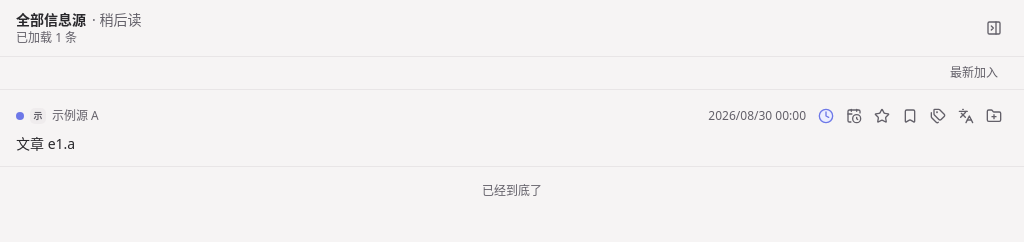
Test: 稍后读 toggle（mutation：乐观 + 失败回滚 + 诚实错误） › 失败：乐观移除回滚（行保留）+ 错误诚实透出
Check: the button "文章 e1.a" is shown, box [16,134,1008,154]
Clock 激活态来自 refs 清单（异步到达）——等它翻到「已加入」再点击
Click the button named "从稍后读移除" at {"x": 826, "y": 116}, box [812,102,840,130]
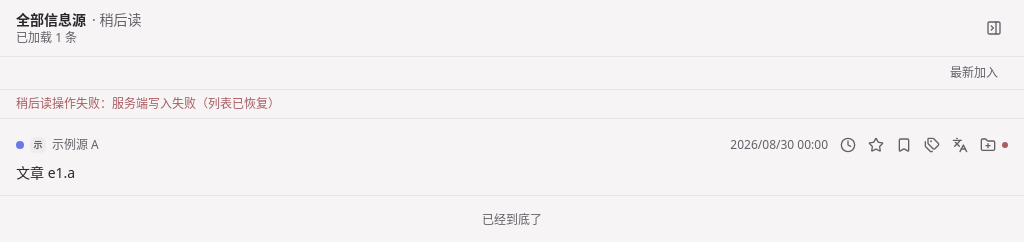
Check: the button "文章 e1.a" is shown, box [16,163,1008,183]
Check: the text "稍后读操作失败：服务端写入失败（列表已恢复）" is shown, box [0,90,1023,119]
